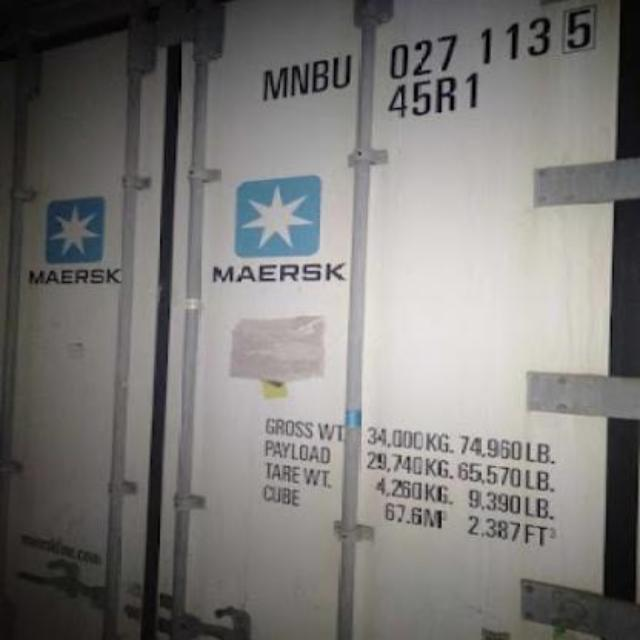0: (388, 42, 412, 82)
1: (502, 20, 526, 66), (474, 23, 498, 67)
2: (412, 39, 434, 77)
3: (526, 14, 556, 62)
5: (566, 6, 596, 50)
7: (430, 34, 460, 74)
B: (310, 54, 334, 96)
M: (260, 68, 290, 100)
N: (288, 61, 314, 97)
U: (330, 55, 356, 91)
